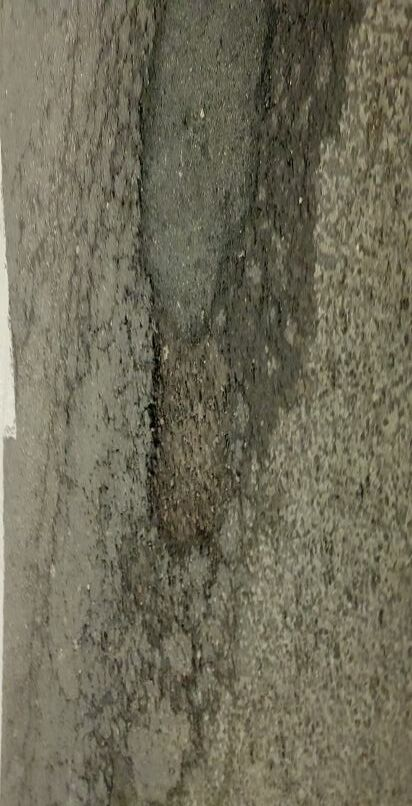pothole: (140, 315, 254, 562)
